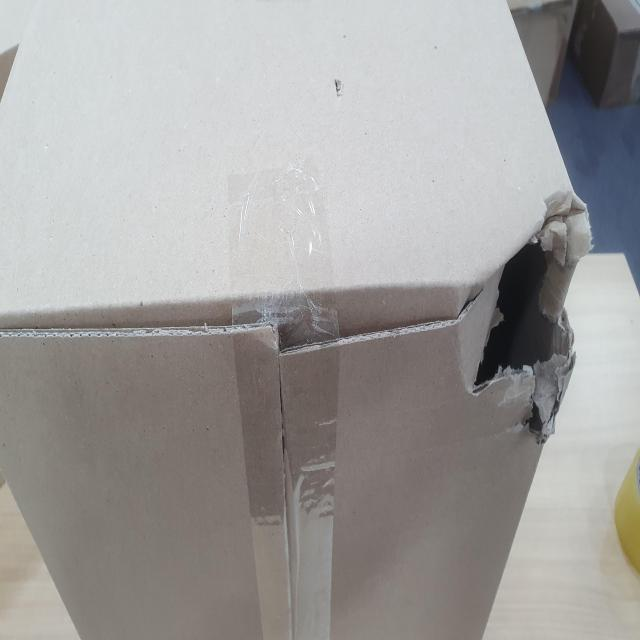damaged: (461, 203, 577, 412)
